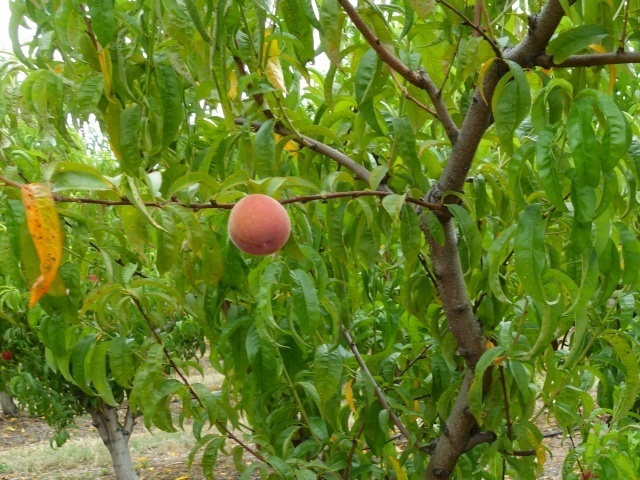peach: (219, 191, 295, 257)
